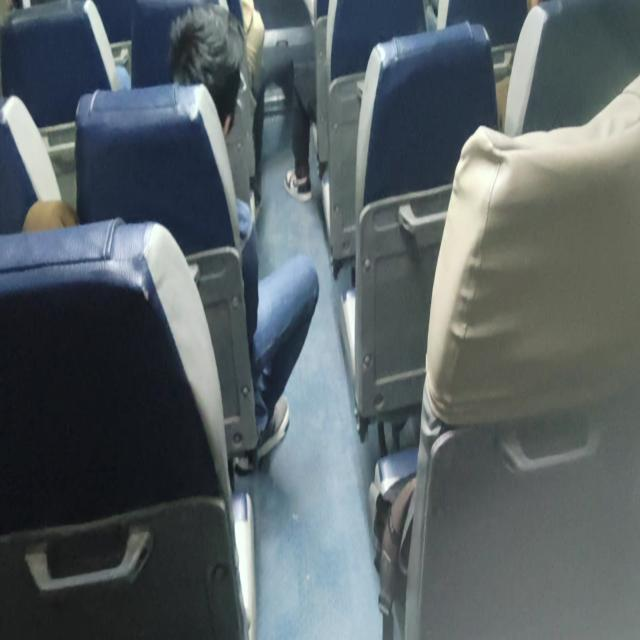person: (167, 4, 320, 470)
